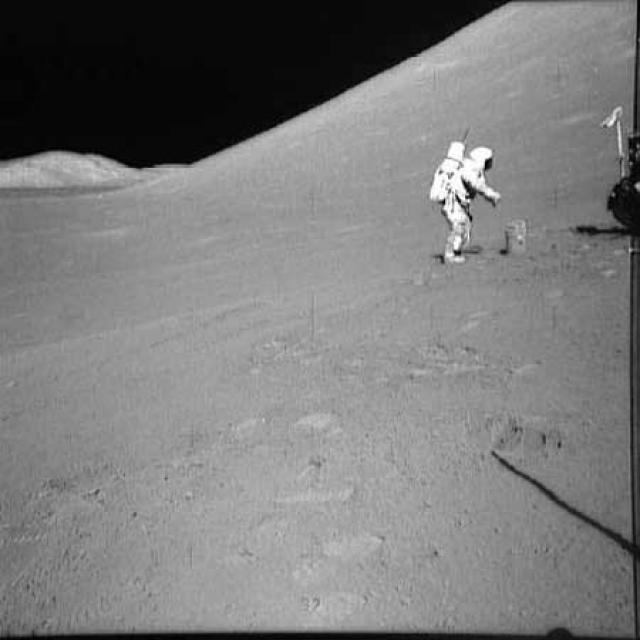artifact: (422, 131, 503, 265), (589, 94, 639, 249), (504, 218, 533, 256)
